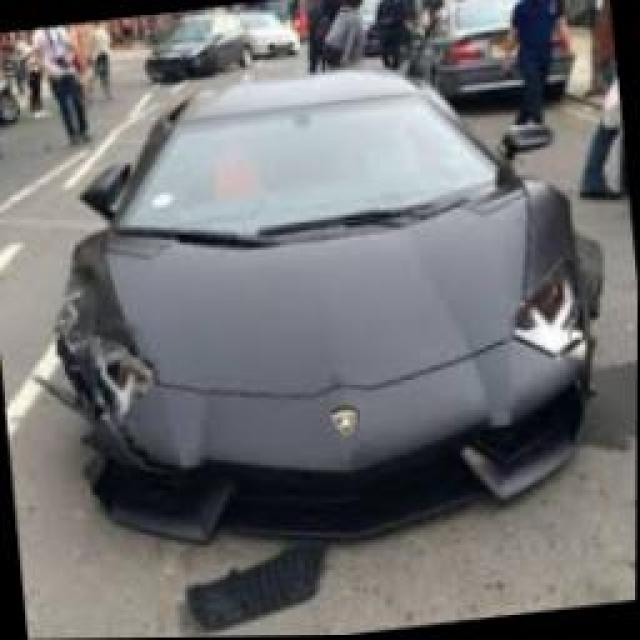replaceable: (66, 247, 172, 459)
